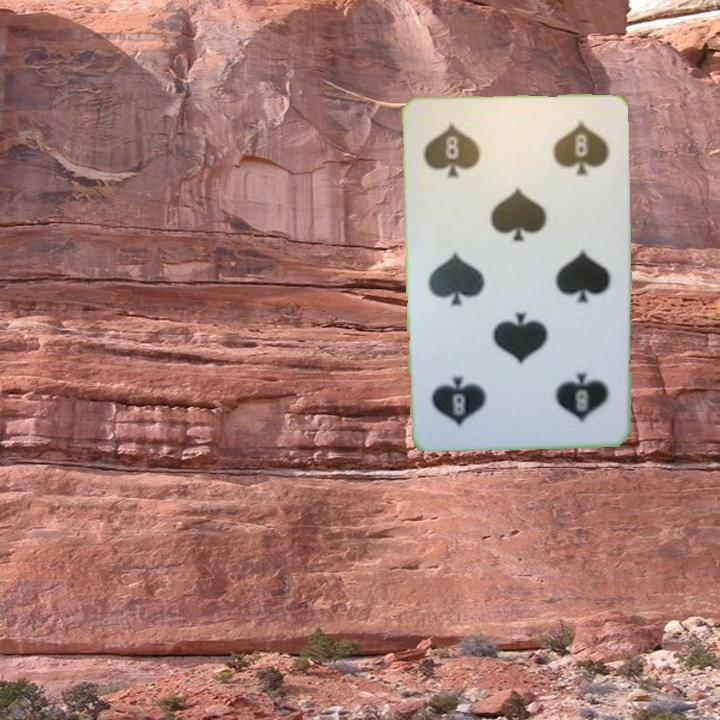s_8.png: (418, 111, 520, 199), (517, 345, 618, 433)
